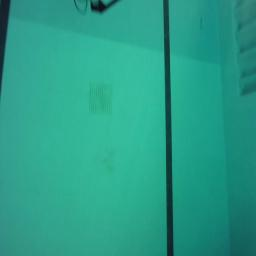Full: (90, 2, 118, 15)
